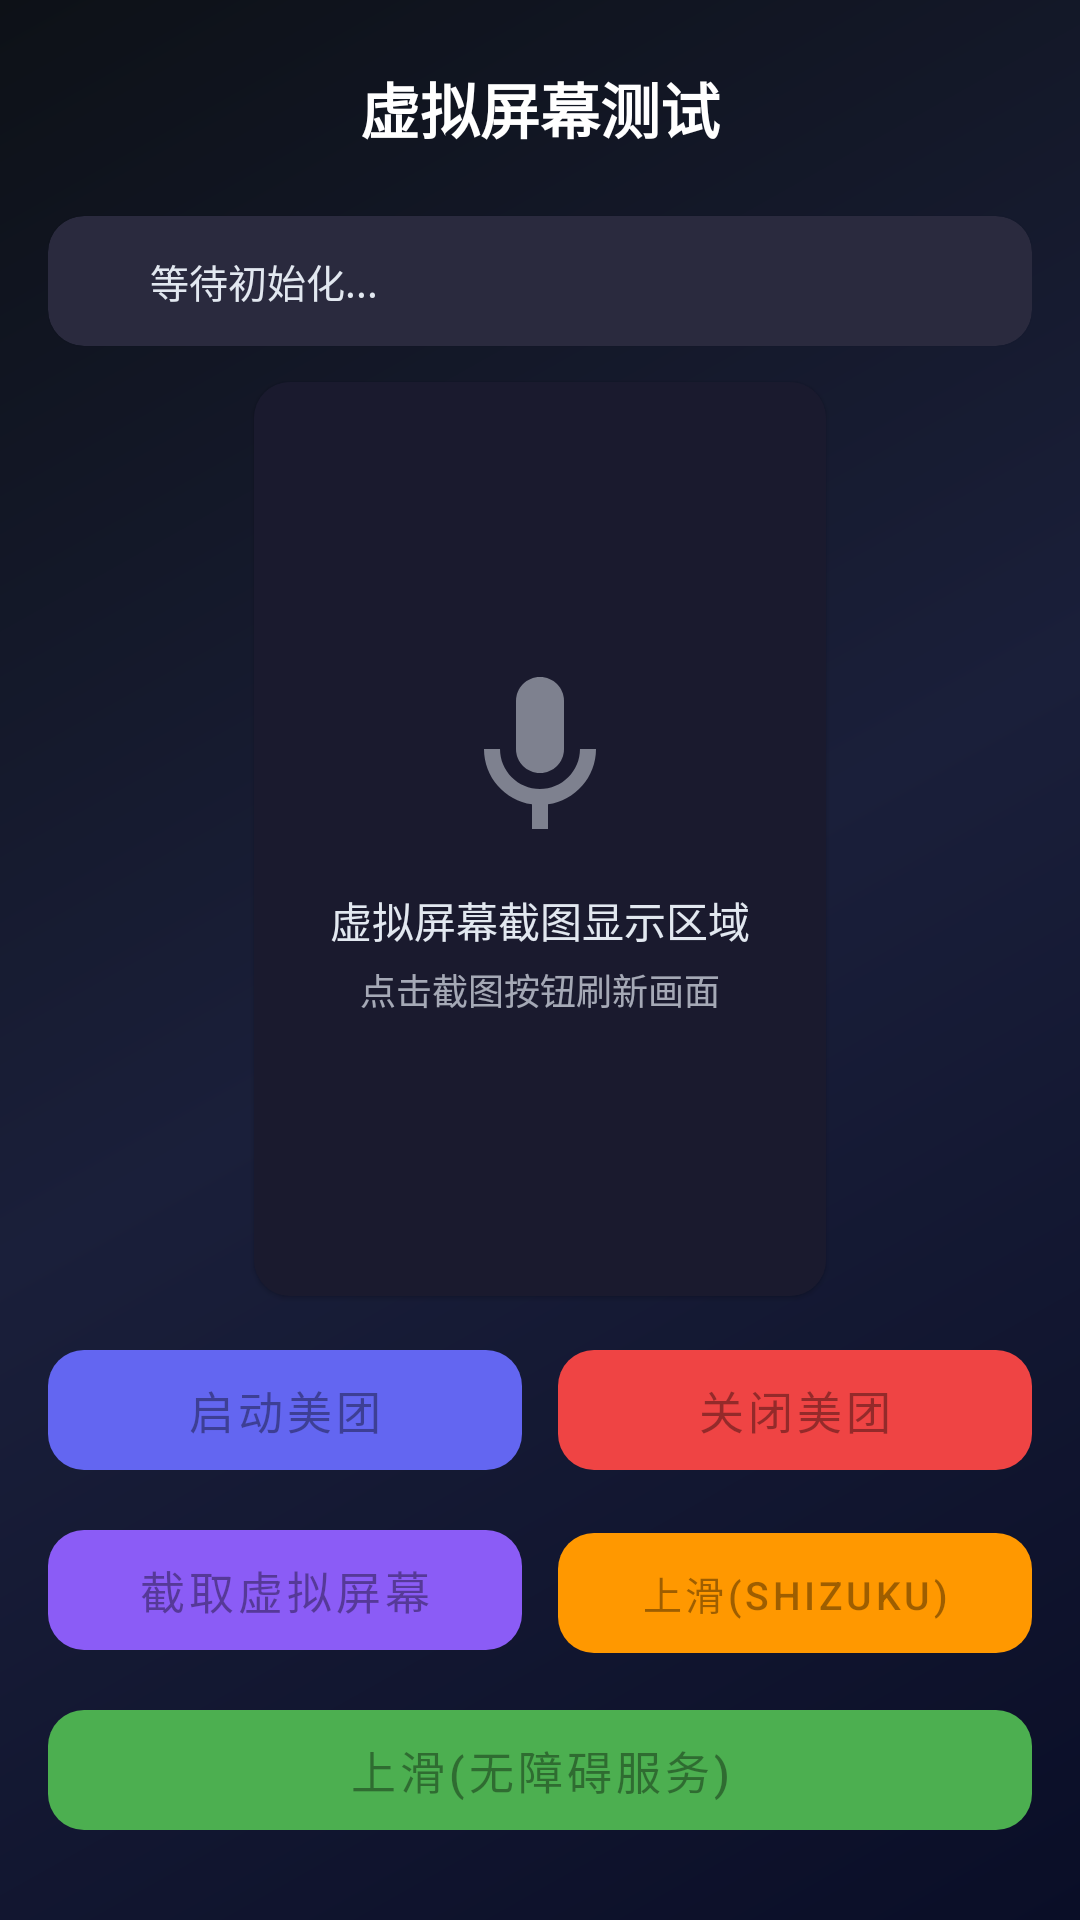

Named icons in this screenshot (1080x1920) and their centers, (x=x, y=y):
microphone: (x=540, y=753)
